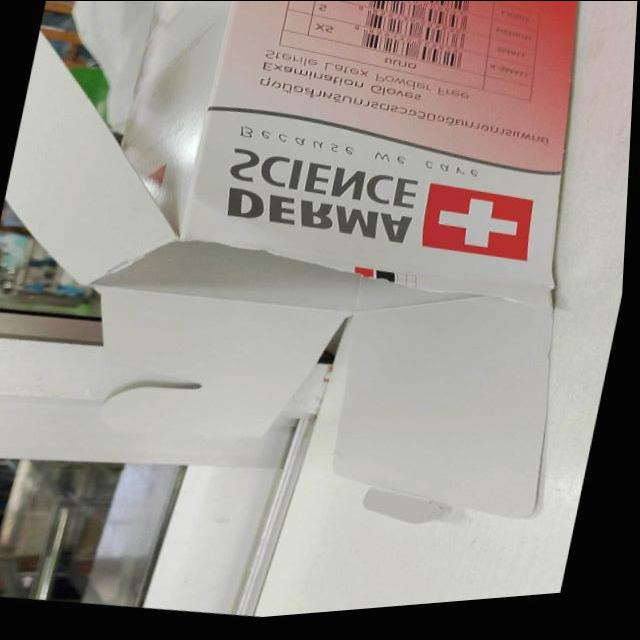General: (179, 1, 579, 290)
Pathological: (3, 1, 579, 519)
